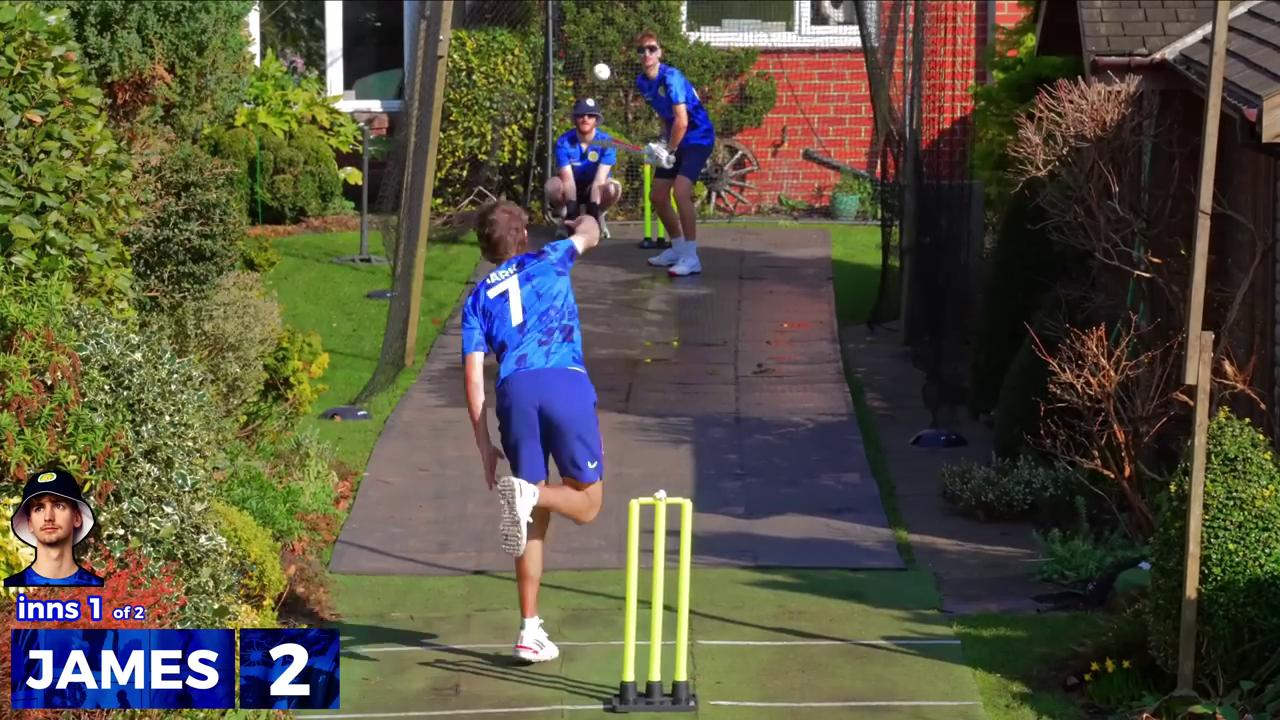ball: (581, 60, 618, 90)
